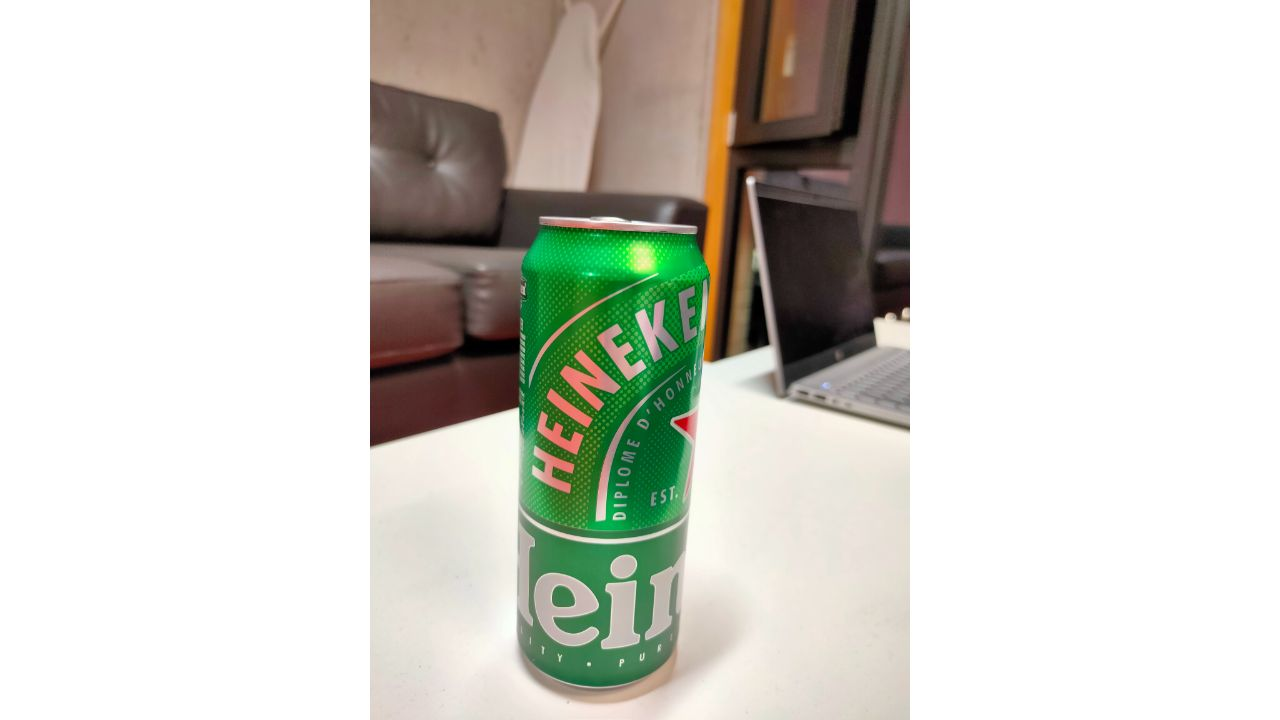Can: (514, 215, 708, 689)
